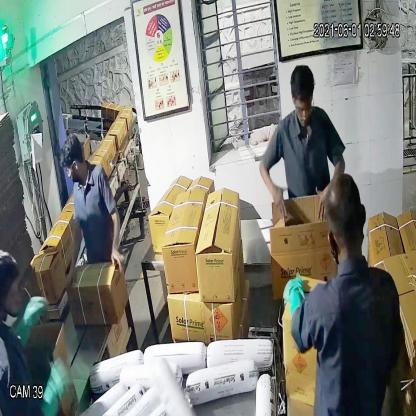goggles: (289, 96, 317, 120)
